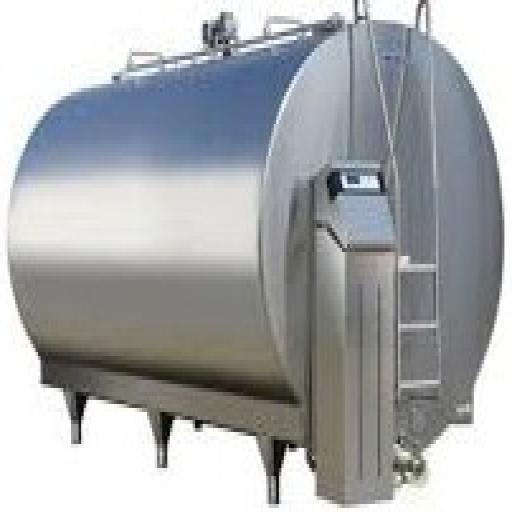silo: (4, 21, 507, 504)
